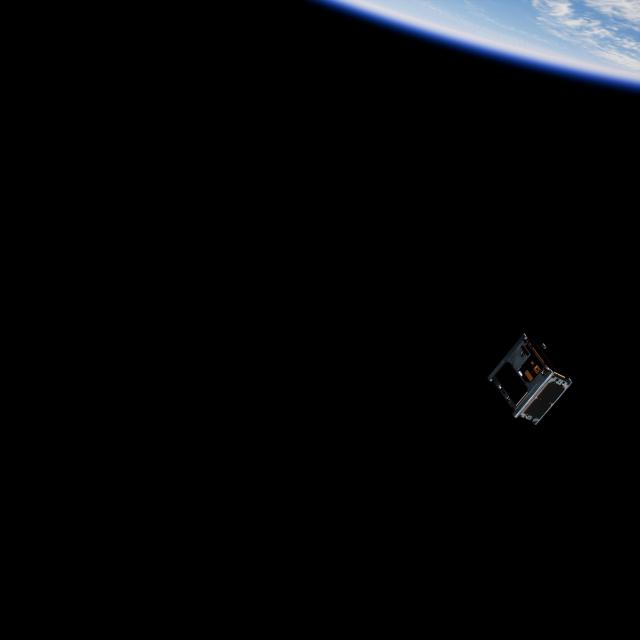medium_debris: (481, 322, 575, 431)
